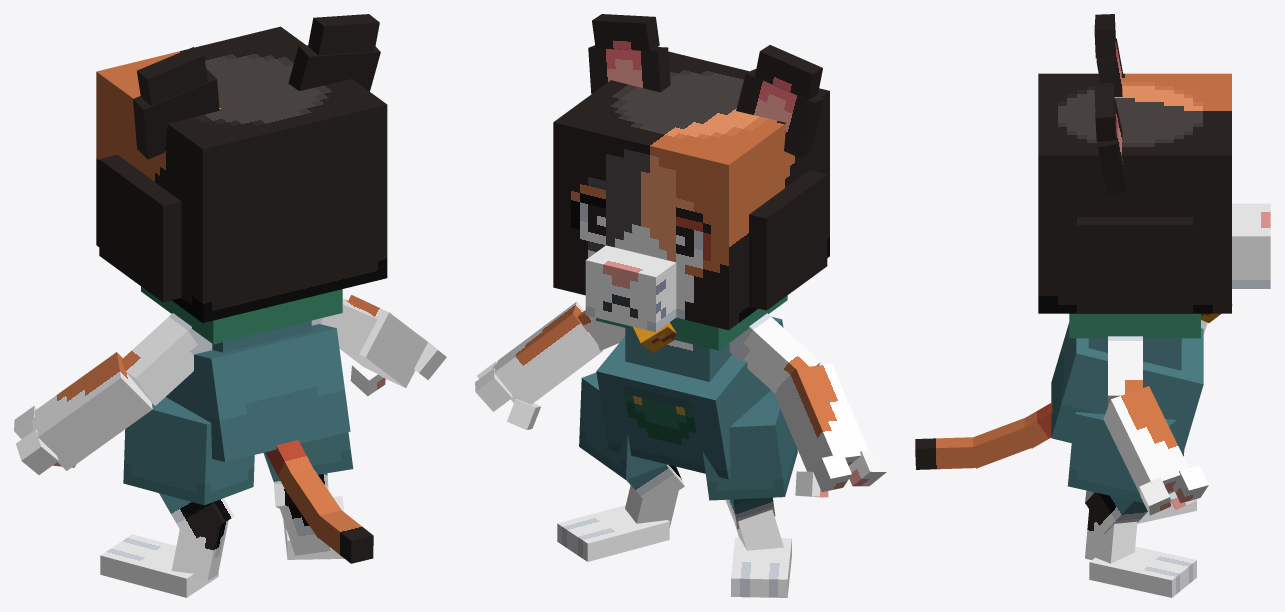
The model's file is Calico.gltf.
3 renders of one model, left to right at view 1: azimuth 30°, elevation 25°; view 2: azimuth 150°, elevation 25°; view 3: azimuth 270°, elevation 25°, orthographic. The views are drawn at different scales.
Parts seen in each view (by area): view 1: cube (×26); view 2: cube (×28); view 3: cube (×22).
Part boxes in pixels (x1,y1,x2,y2): cube (×26): (16, 14, 446, 597); cube (×28): (475, 14, 886, 597); cube (×22): (915, 14, 1270, 597).
Size of the model in its own units: 1.44 by 1.74 by 1.15.
1 material, 1 textured.
